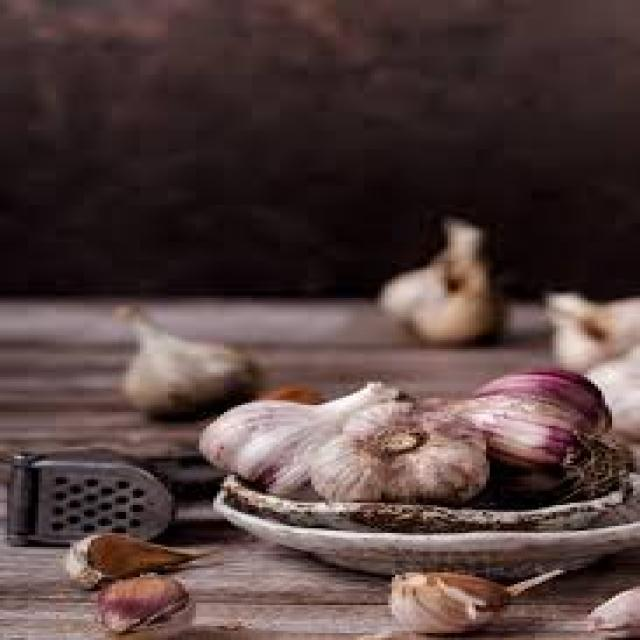Garlic: (85, 273, 261, 438), (203, 373, 420, 501), (437, 371, 617, 491), (353, 219, 503, 355), (316, 394, 502, 499), (364, 560, 526, 636), (532, 276, 640, 387), (66, 525, 207, 587), (94, 570, 213, 632)
